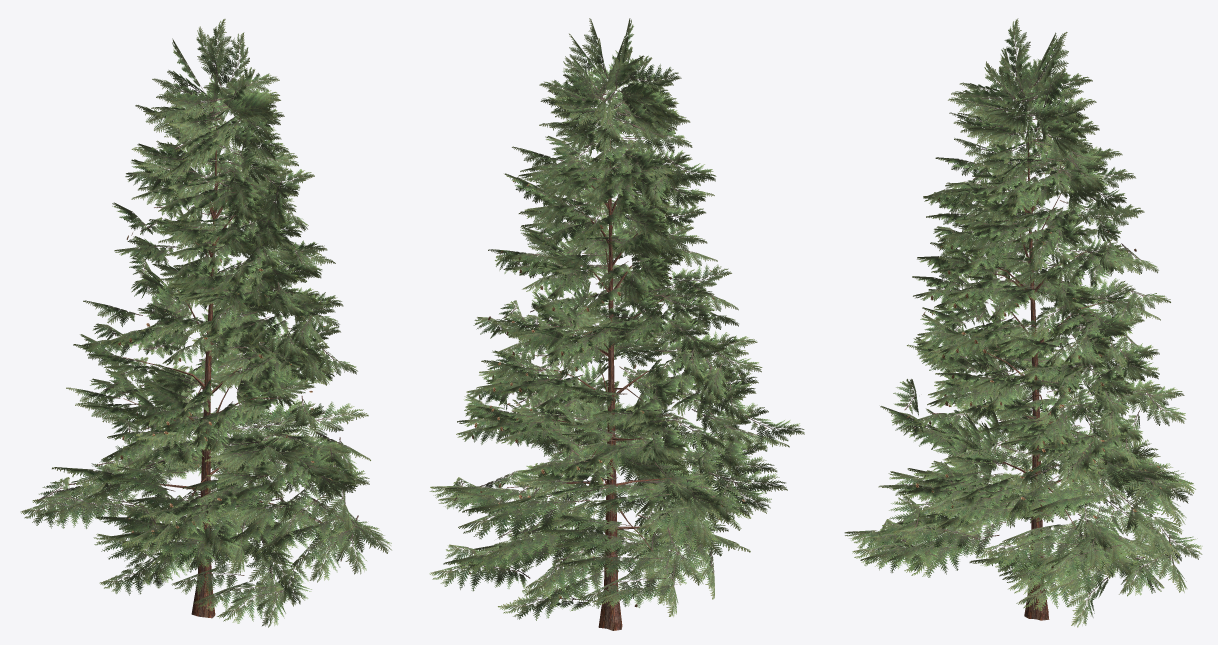
The model's file is Calocedrus_Decurrens_Autumn_Adult.glb.
3 views of the same model, side by side, from view 1: azimuth 30°, elevation 25°; view 2: azimuth 150°, elevation 25°; view 3: azimuth 270°, elevation 25° (orthographic). The views are drawn at different scales.
Parts seen in each view (by area): view 1: Calocedrus_Decurrens_Autumn_Adult__LOD3; view 2: Calocedrus_Decurrens_Autumn_Adult__LOD3; view 3: Calocedrus_Decurrens_Autumn_Adult__LOD3.
Part boxes in pixels (x1,y1,x2,y2): Calocedrus_Decurrens_Autumn_Adult__LOD3: (20,19,391,627); Calocedrus_Decurrens_Autumn_Adult__LOD3: (429,18,804,630); Calocedrus_Decurrens_Autumn_Adult__LOD3: (844,18,1202,627).
Size of the model in its own units: 11.32 by 21.97 by 12.17.
3 materials, 3 textured.
